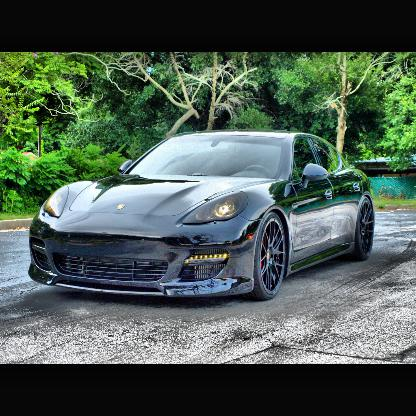Porsche Panamera Sedan 2012: (30, 131, 376, 301)
